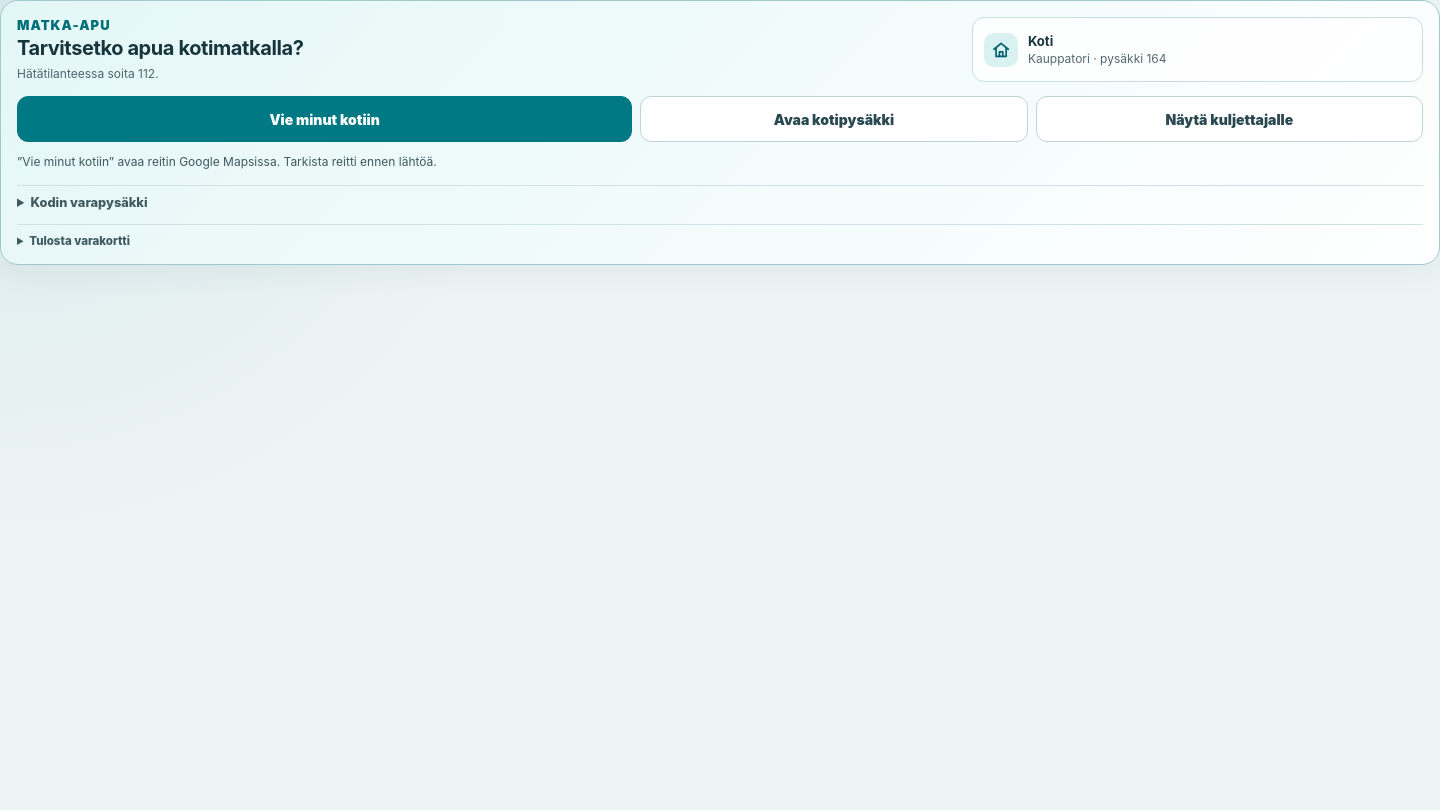
Scenario: offers Get me Home in Finnish for a Home saved with its English label
Expected: the heading "Tarvitsetko apua kotimatkalla?" is shown, top-left (17, 36), bottom-right (304, 60)
Expected: the link with aria-label "Vie minut kotiin joukkoliikenteellä" reads "Vie minut kotiin", top-left (17, 96), bottom-right (632, 142)
Click the button "Näytä kuljettajalle".
click(1229, 119)  # box top-left (1036, 96), bottom-right (1423, 142)
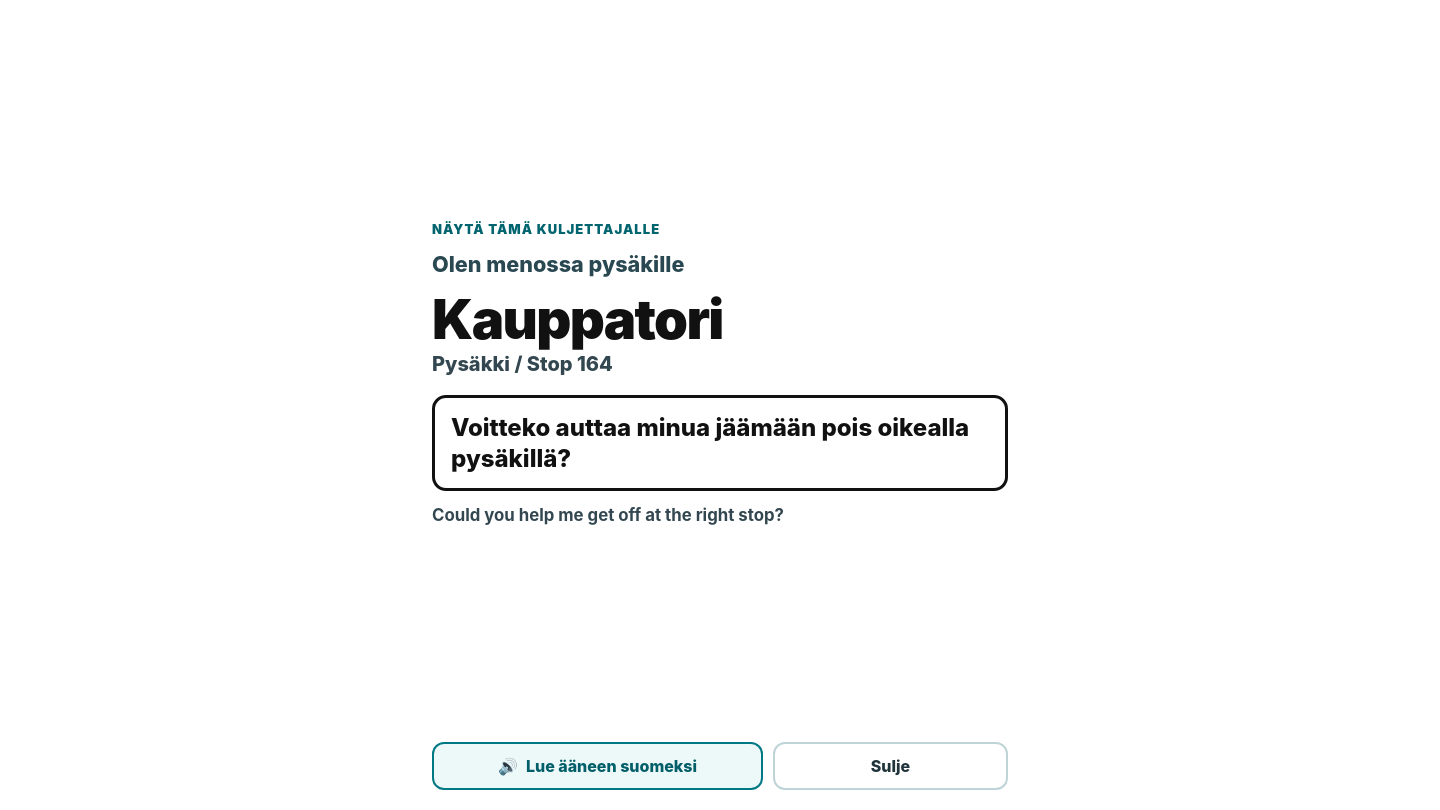
Expected: the button "Sulje" is shown, top-left (773, 742), bottom-right (1008, 790)
